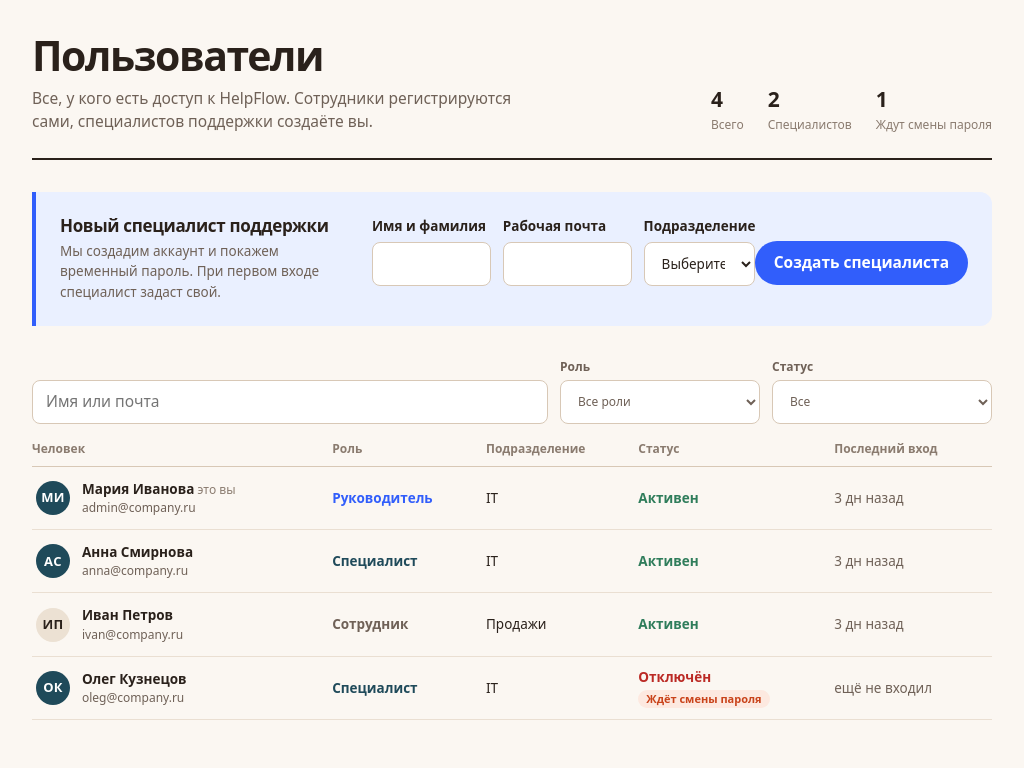
Test: AdminTeam — directory › searches by name or email and filters by role and status
Type "ivan@" into the search field named "Поиск по имени или почте" at (290, 402), box [32,380,548,424]
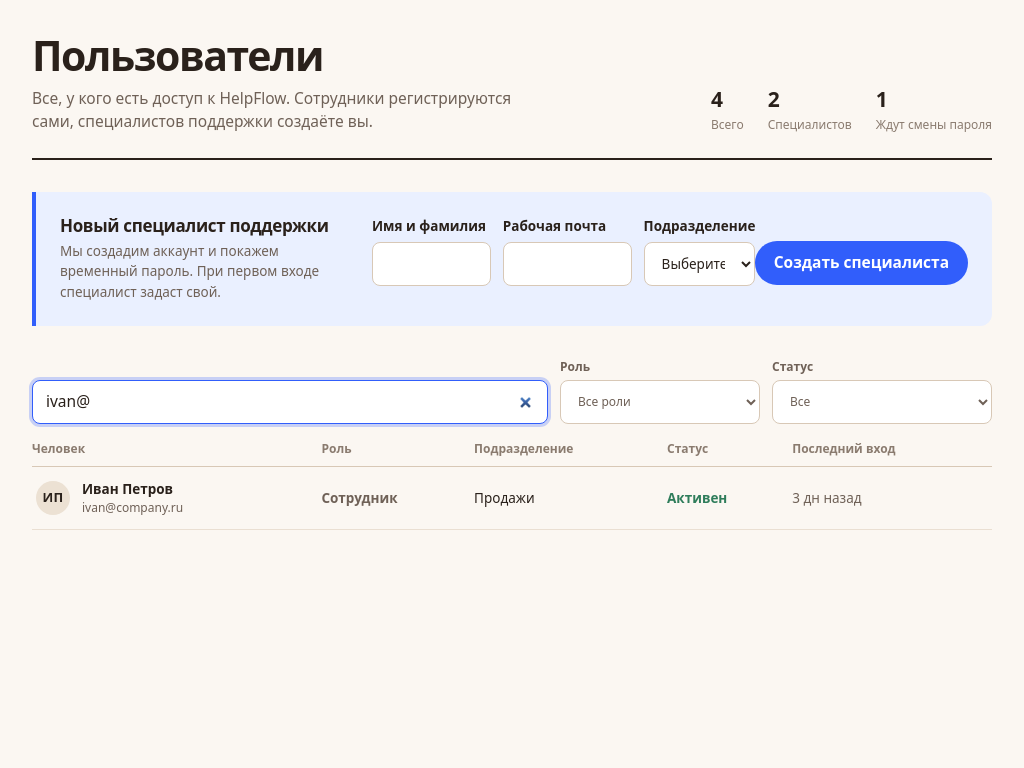
Clear the search field named "Поиск по имени или почте" at (290, 402), box [32,380,548,424]
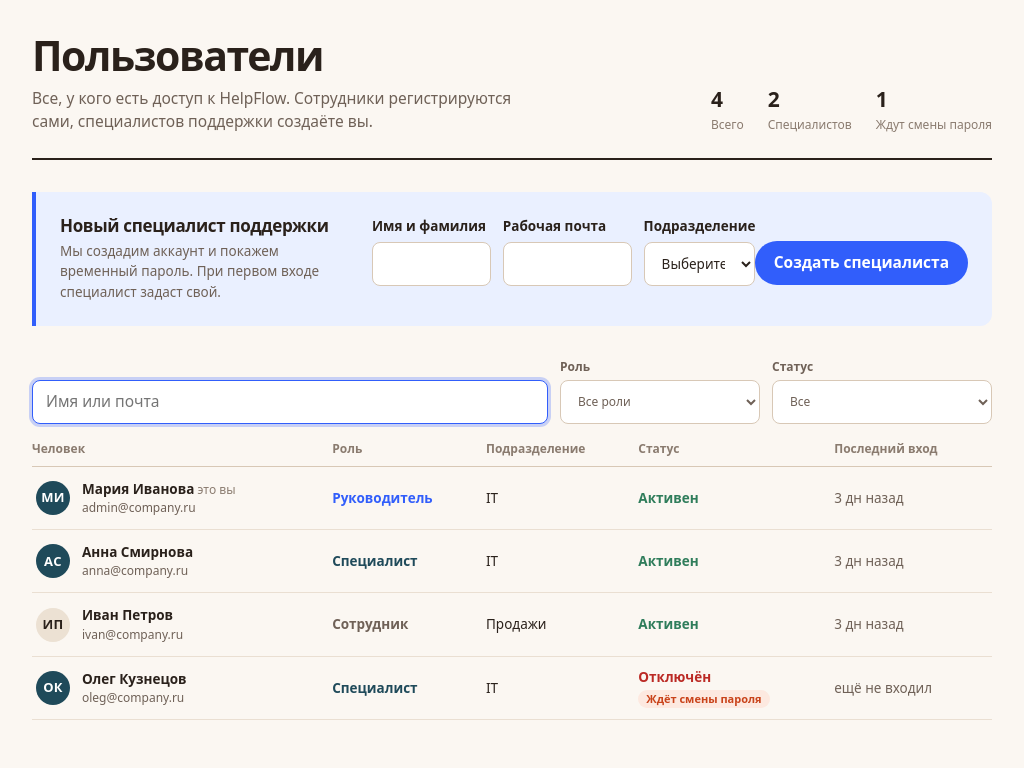
Select "Специалисты" in the dropdown labelled "Роль" at (660, 402), box [560,380,760,424]
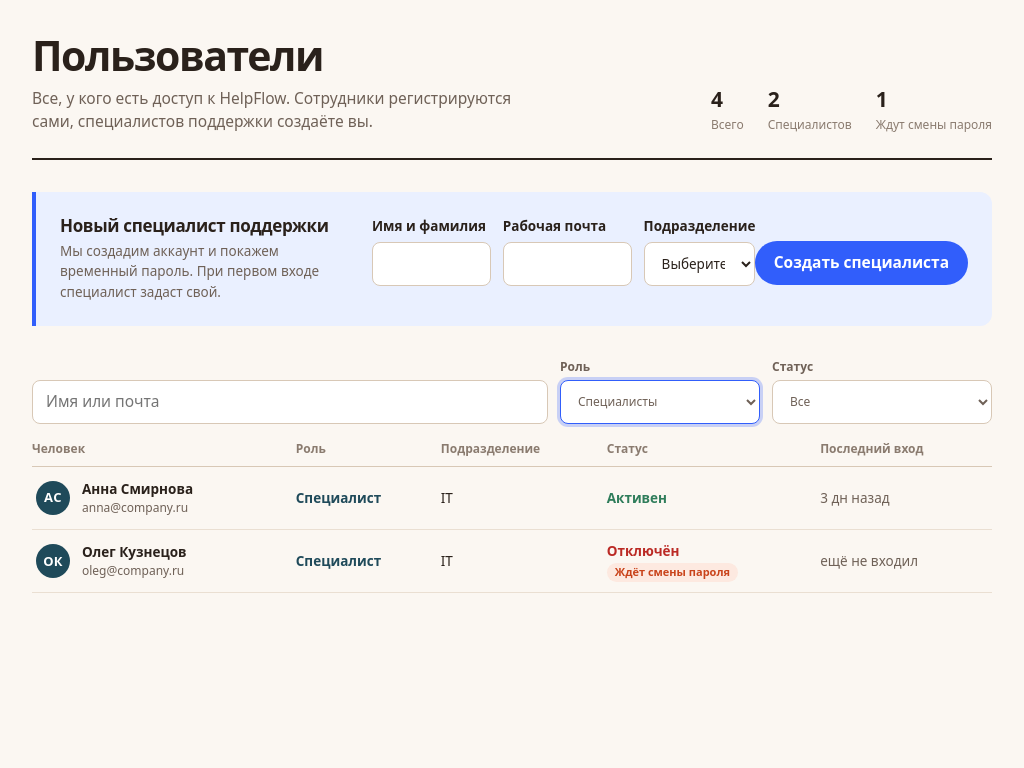
Select "Отключённые" in the dropdown labelled "Статус" at (882, 402), box [772,380,992,424]
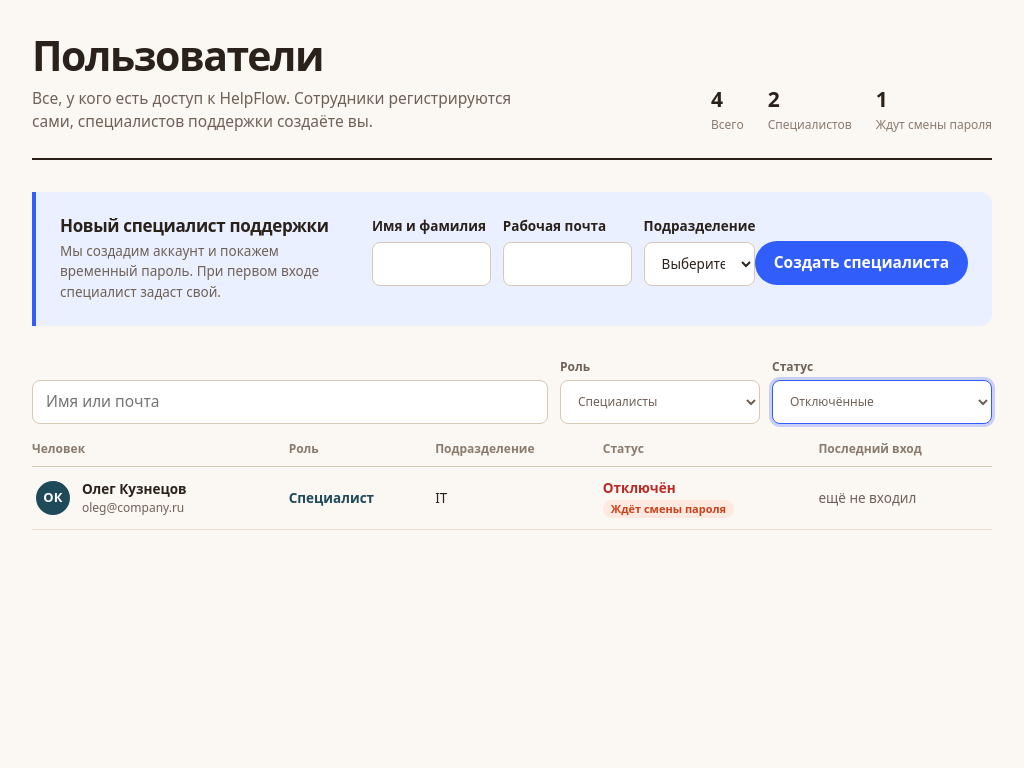
Type "никого" into the search field named "Поиск по имени или почте" at (290, 402), box [32,380,548,424]
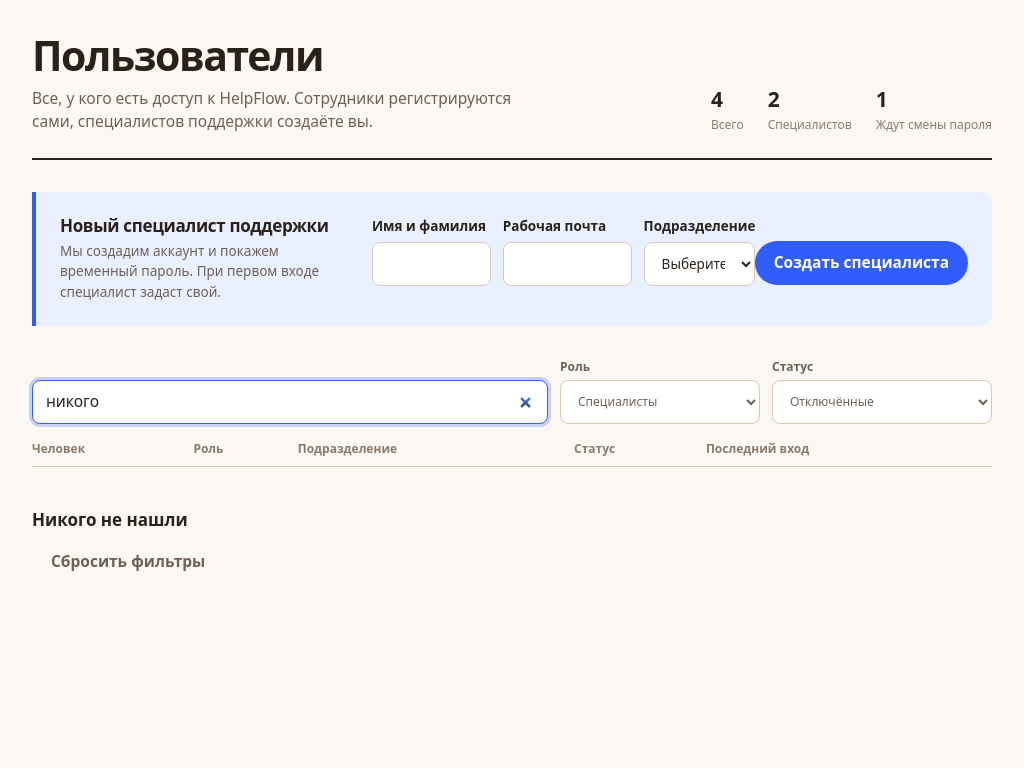
Expected: the text "Никого не нашли" is shown, [32,507,188,532]
